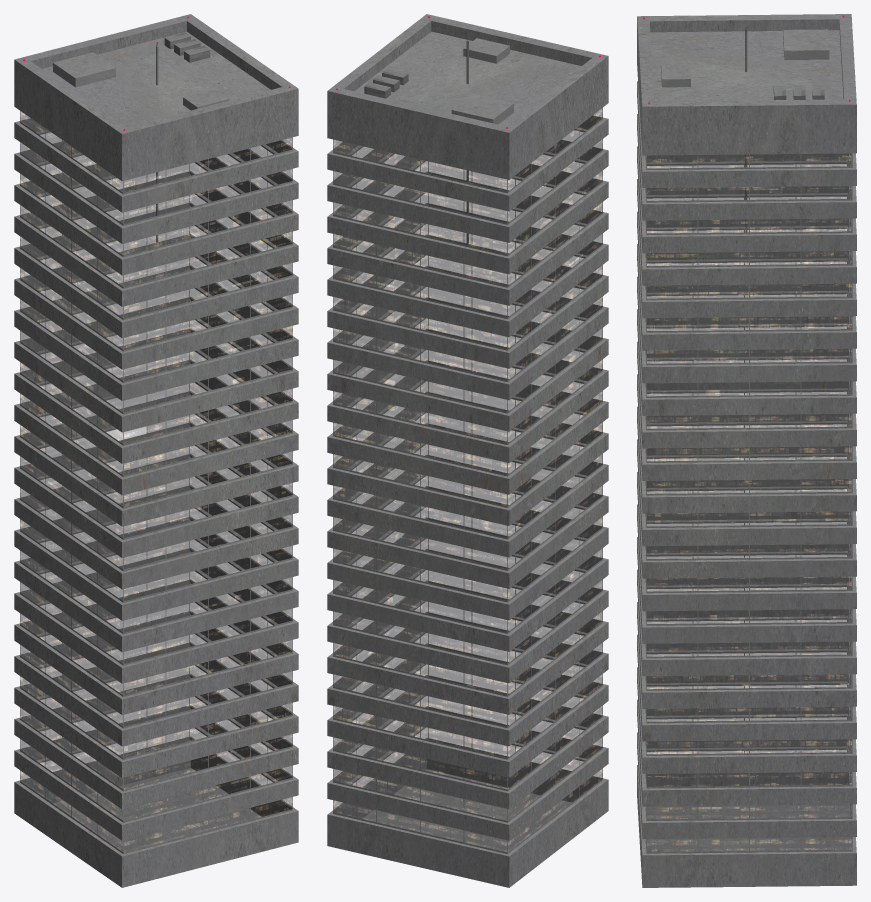
Rendered from brutalist-skyscraper.glb.
3 renders of one model, left to right at view 1: azimuth 30°, elevation 25°; view 2: azimuth 150°, elevation 25°; view 3: azimuth 270°, elevation 25°, orthographic. The views are drawn at different scales.
Visible parts, largest first — view 1: brutalist-skyscraper-1.007; view 2: brutalist-skyscraper-1.007; view 3: brutalist-skyscraper-1.007.
Part boxes in pixels (<box>): brutalist-skyscraper-1.007: <box>14,14,298,887</box>; brutalist-skyscraper-1.007: <box>327,14,608,887</box>; brutalist-skyscraper-1.007: <box>637,14,856,887</box>.
Bounding box in the file's own units: 48.38 × 198 × 48.43.
5 materials, 4 textured.
